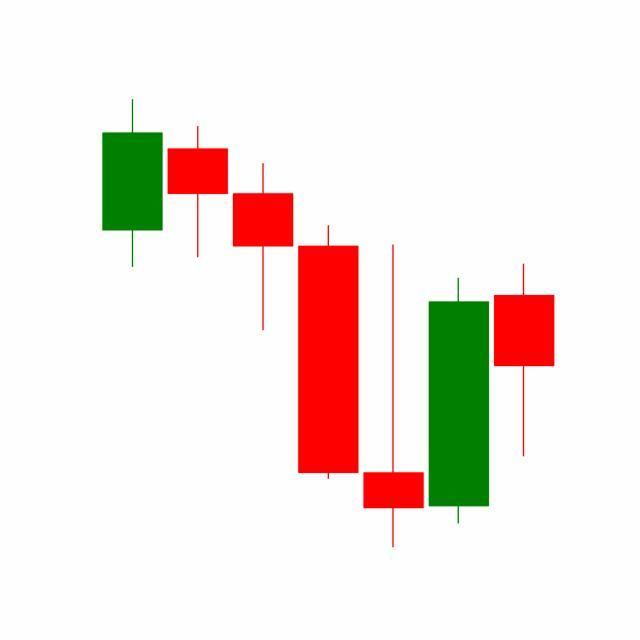Hikkake Pattern: (229, 159, 555, 549)
